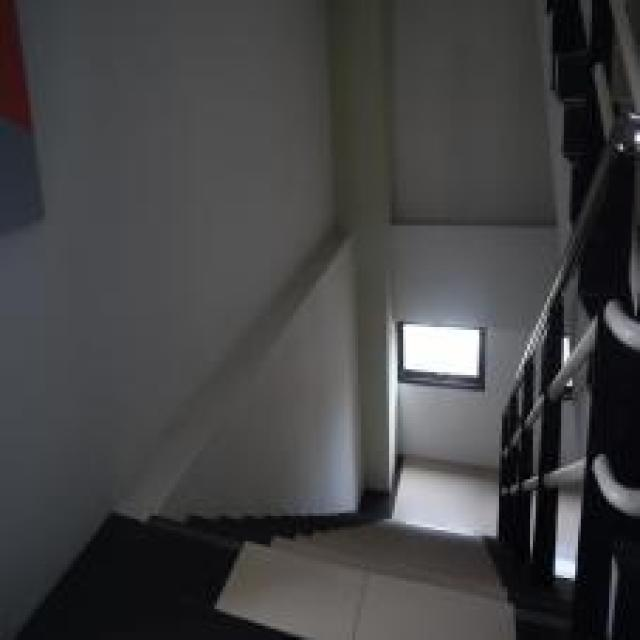downstair: (184, 523, 500, 638)
